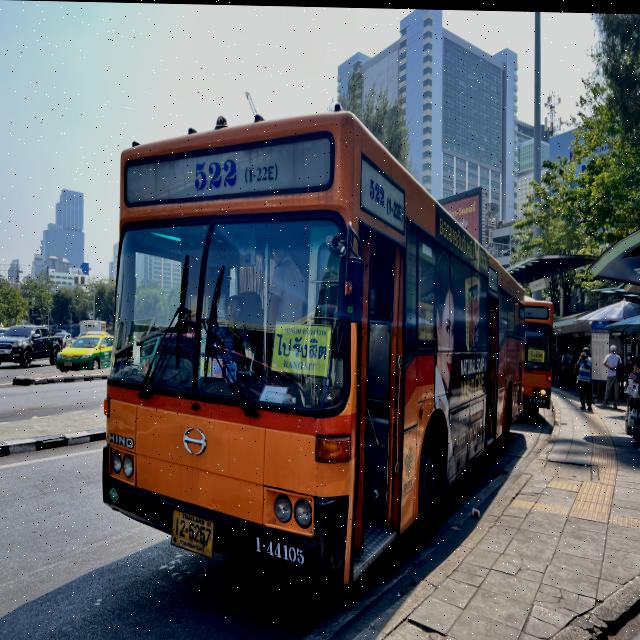BMTA-bus: (100, 107, 525, 591), (517, 284, 556, 431)
Bus-Line-Number: (188, 154, 280, 198)
Destination-Sign-Normal-Expressway: (271, 319, 331, 376)
